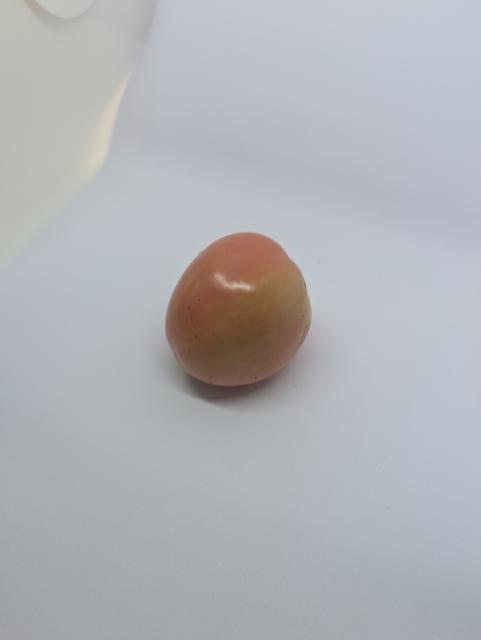turning: (155, 228, 318, 393)
